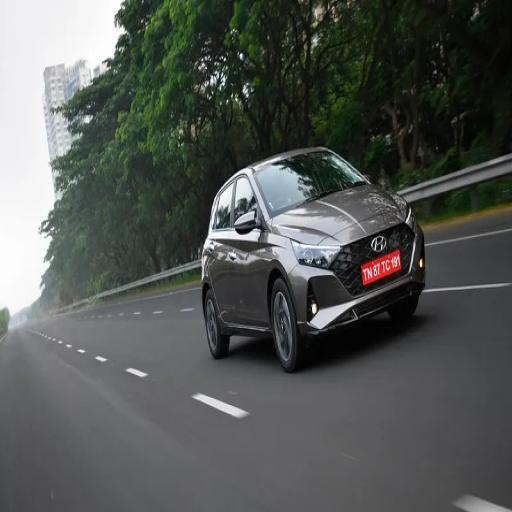License: (356, 243, 405, 283)
